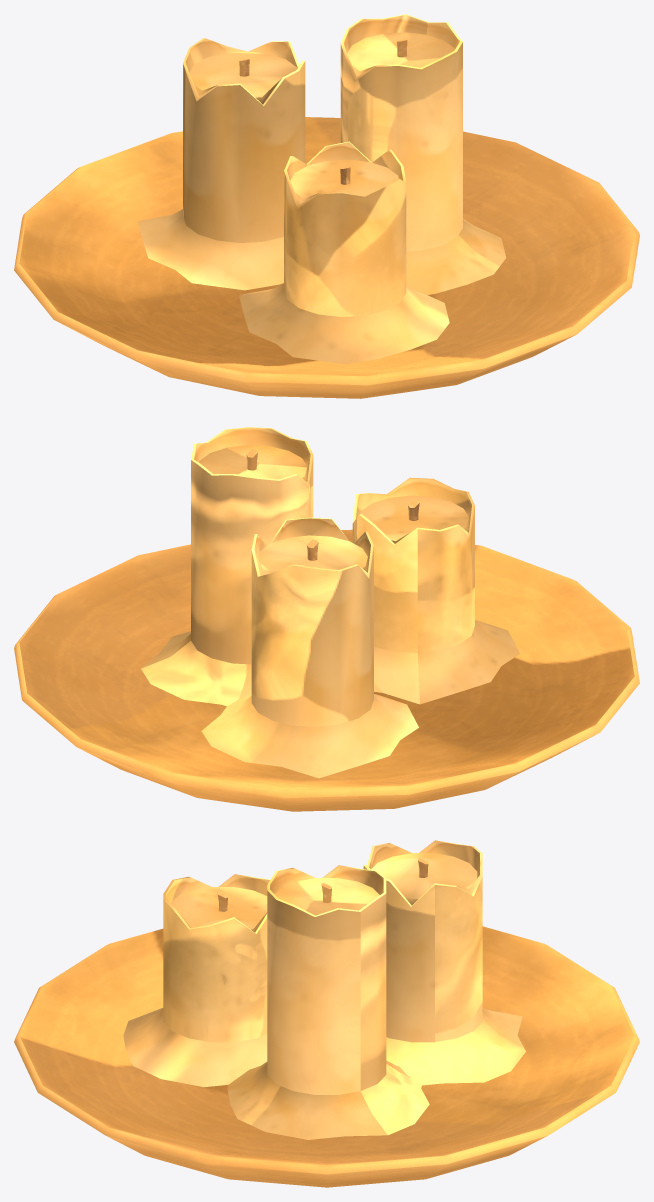
File: SM_Candle.fbx
3 renders of one model, top to bottom at view 1: azimuth 30°, elevation 25°; view 2: azimuth 150°, elevation 25°; view 3: azimuth 270°, elevation 25°, orthographic.
Parts seen in each view (by area): view 1: SM_Candle_LOD0; view 2: SM_Candle_LOD0; view 3: SM_Candle_LOD0.
Boxes of the visible parts, x1=… form: SM_Candle_LOD0: x1=14, y1=14, x2=639, y2=398; SM_Candle_LOD0: x1=14, y1=427, x2=639, y2=811; SM_Candle_LOD0: x1=14, y1=840, x2=639, y2=1187.
Bounding box in the file's own units: 27.07 × 27.07 × 11.08.
